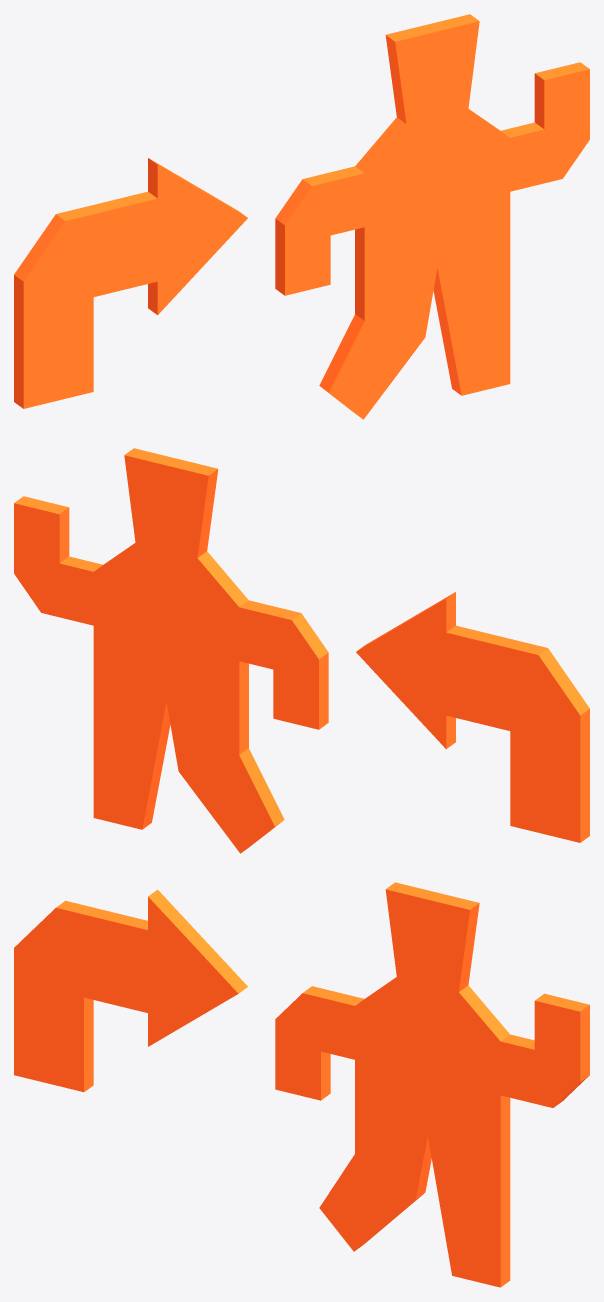
Rendered from scifi_scifi-sign-pedestrian-alert.fbx.
The picture shows the model from 3 angles, top to bottom: view 1: azimuth 30°, elevation 25°; view 2: azimuth 150°, elevation 25°; view 3: azimuth 330°, elevation 25°; orthographic projection.
Parts seen in each view (by area): view 1: scifi_scifi_sign_pedestrian_alert; view 2: scifi_scifi_sign_pedestrian_alert; view 3: scifi_scifi_sign_pedestrian_alert.
Boxes of the visible parts, x1=… form: scifi_scifi_sign_pedestrian_alert: x1=14, y1=14, x2=589, y2=419; scifi_scifi_sign_pedestrian_alert: x1=14, y1=448, x2=589, y2=853; scifi_scifi_sign_pedestrian_alert: x1=14, y1=882, x2=589, y2=1287.
Bounding box in the file's own units: 200 × 125 × 5.88.
